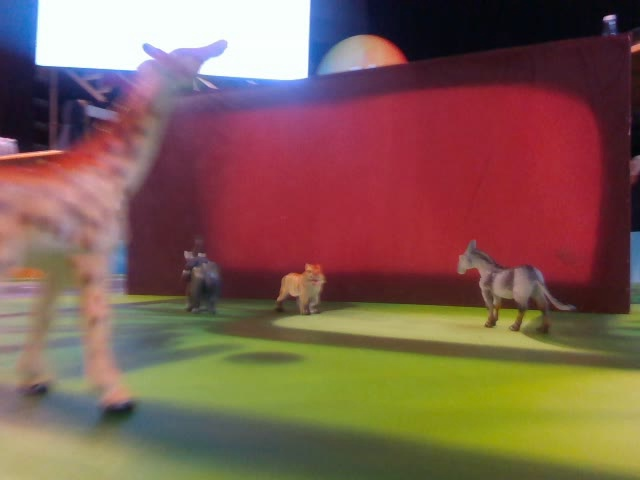toy: (454, 236, 582, 342)
